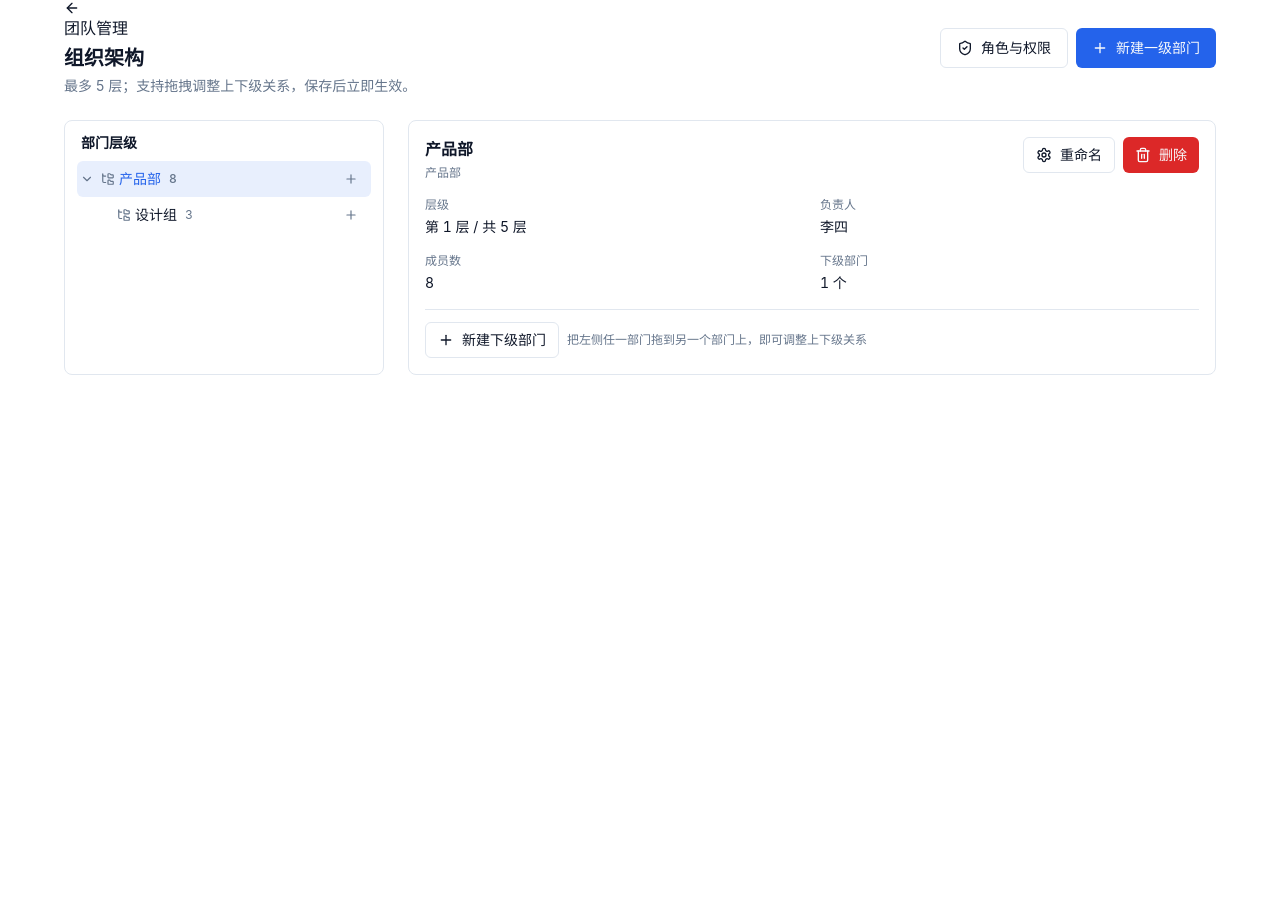
组织架构页 › 删除二次确认写明成员与下级数
The width and height of the screenshot is (1280, 900).
Later steps or results of the test are not shown.
Click the button "删除".
click(1161, 155)  # box [1123,137,1199,173]
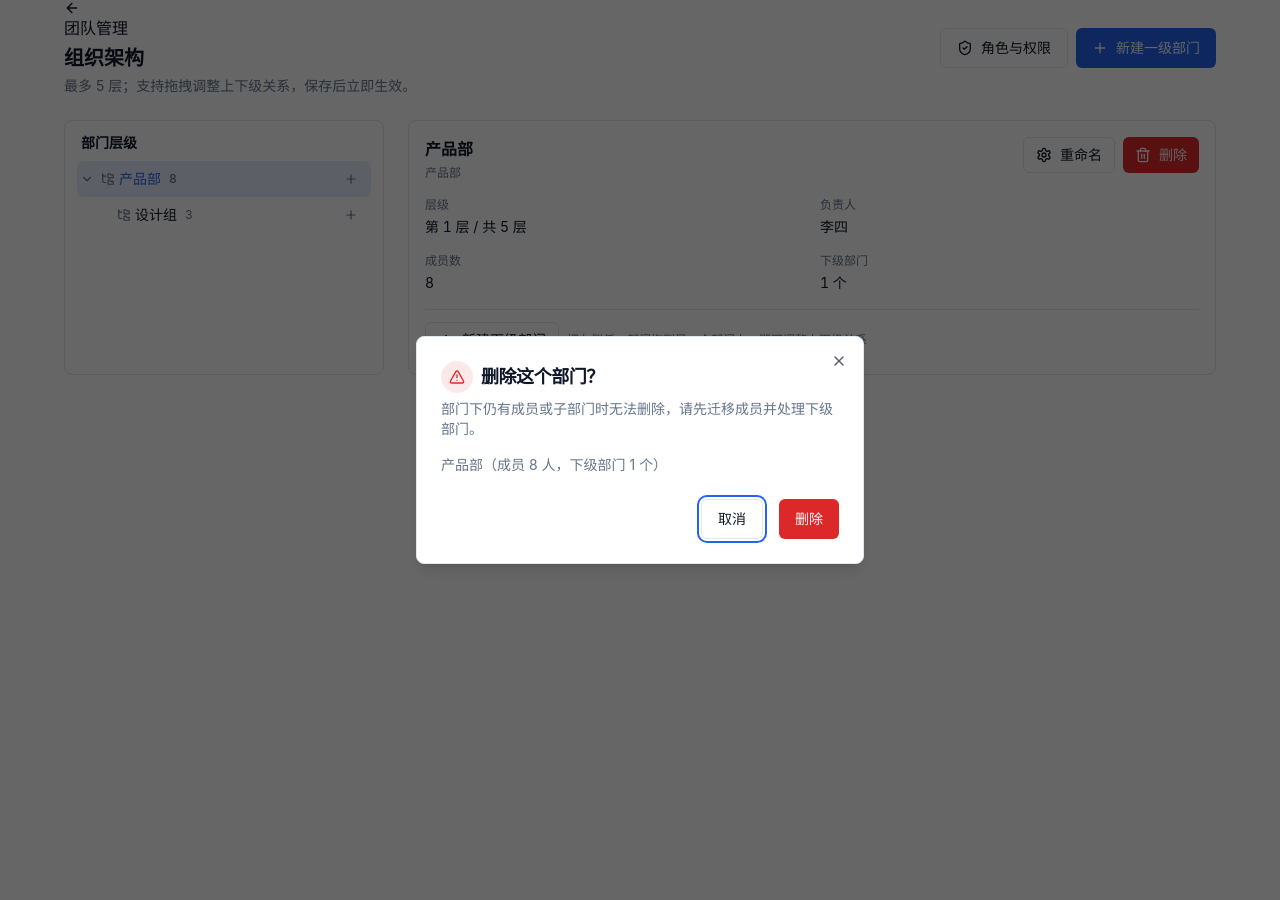
Result: the text "部门下仍有成员或子部门时无法删除" is shown at [441,400,833,437]
Result: the text "成员 8 人，下级部门 1 个" is shown at [441,456,667,473]
